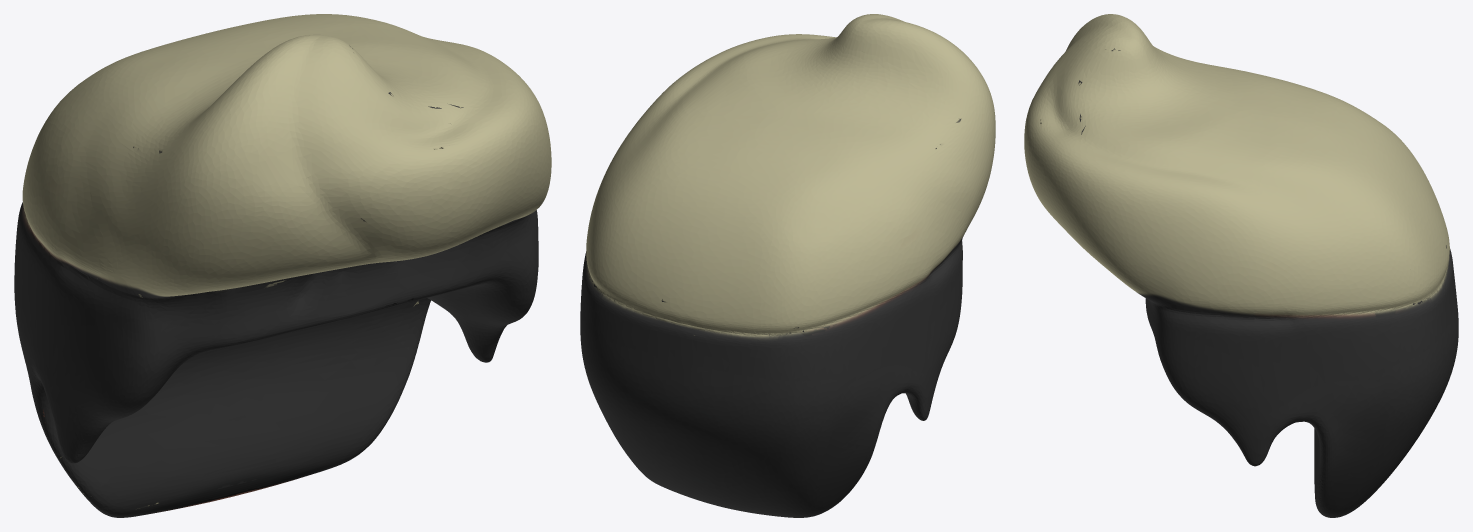
The model's file is Male_Hair_1_2.glb.
The picture shows the model from 3 angles, left to right: view 1: azimuth 30°, elevation 25°; view 2: azimuth 150°, elevation 25°; view 3: azimuth 270°, elevation 25°; orthographic projection. The views are drawn at different scales.
Parts seen in each view (by area): view 1: Plane.038; view 2: Plane.038; view 3: Plane.038.
Part boxes in pixels (x1=…): Plane.038: x1=14, y1=14, x2=551, y2=517; Plane.038: x1=580, y1=14, x2=995, y2=517; Plane.038: x1=1024, y1=14, x2=1458, y2=517.
Size of the model in its own units: 35.72 by 44.54 by 40.3.
Materials: 1 (1 with a texture image).
